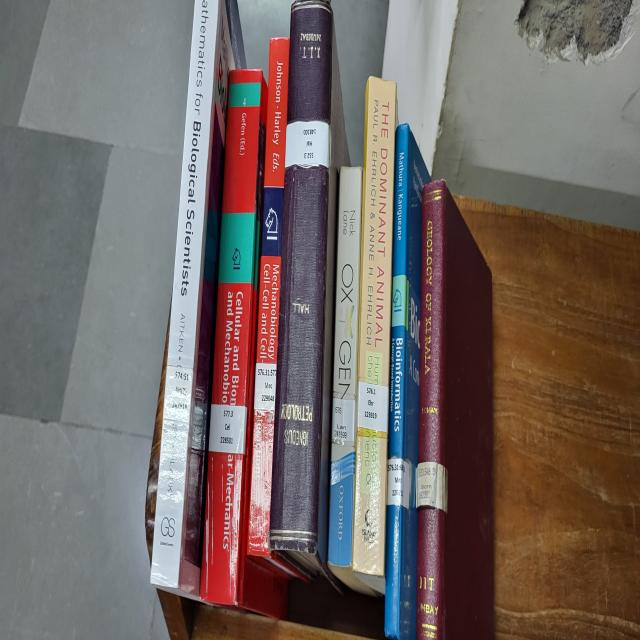Book: (269, 0, 349, 579), (200, 68, 268, 606), (416, 181, 494, 639), (352, 76, 398, 590), (385, 124, 429, 639), (248, 38, 290, 557), (328, 168, 362, 584)
Label: (285, 122, 330, 168), (209, 403, 248, 455), (358, 381, 389, 433), (416, 463, 448, 511), (388, 457, 411, 509), (331, 398, 355, 444), (254, 363, 276, 411)
